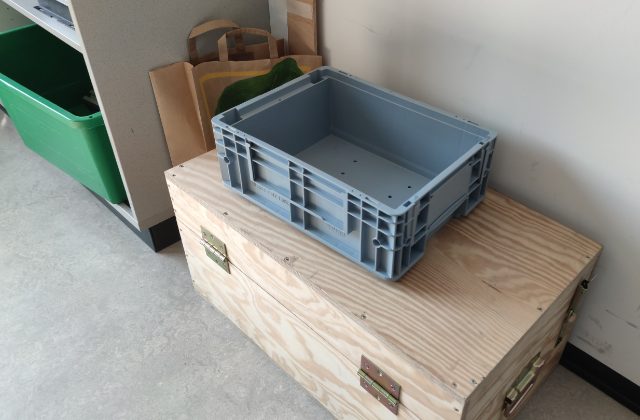Box: (209, 64, 499, 282)
